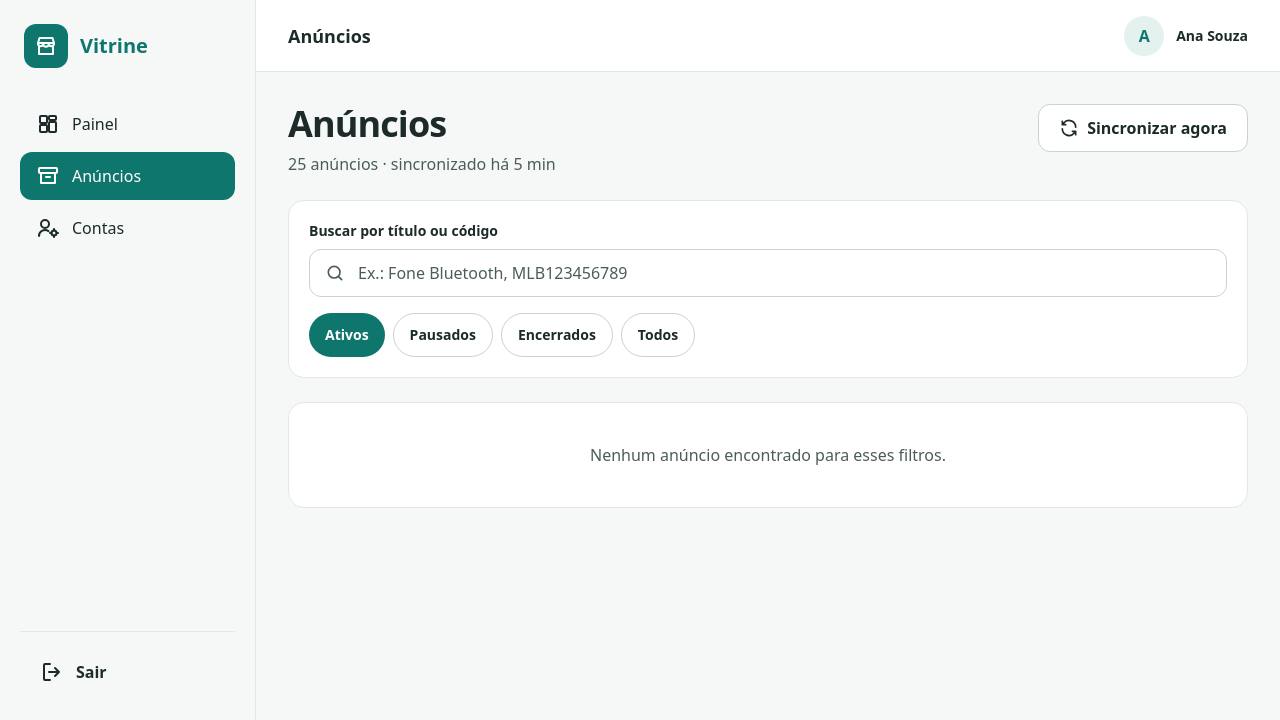
SPEC-0025:UT-01 — mensagens de erro por code › SPEC-0025:UT-01 — Sincronizar agora com 409 ACCOUNT_REAUTHORIZATION_REQUIRED mostra a mensagem certa
The image size is (1280, 720).
Quando o usuário clica em "Sincronizar agora"
Click the button "Sincronizar agora": click(1143, 128) [1038,104,1248,152]
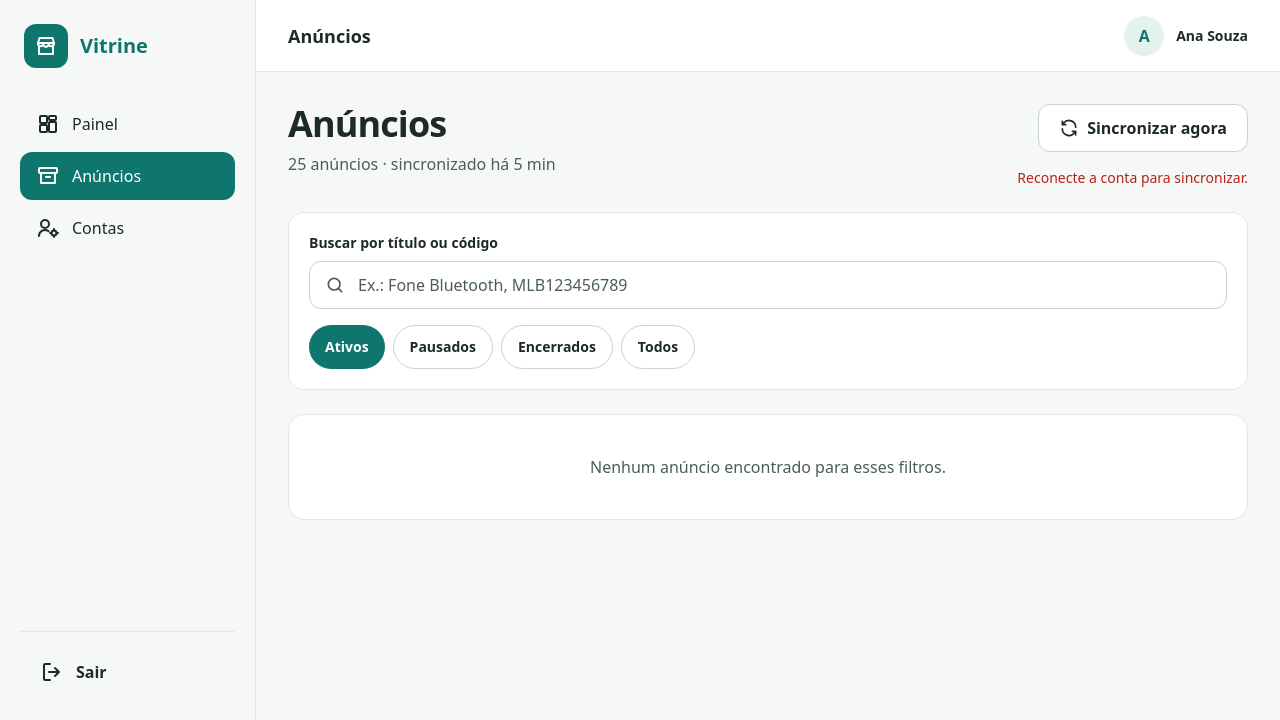
Now the text "Reconecte a conta para sincronizar." is shown, box [1017,168,1248,188]
